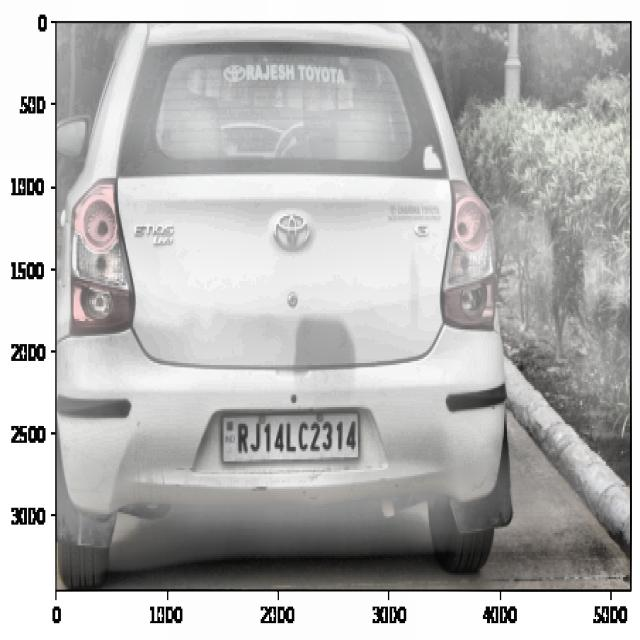license_plate: (228, 410, 360, 462)
